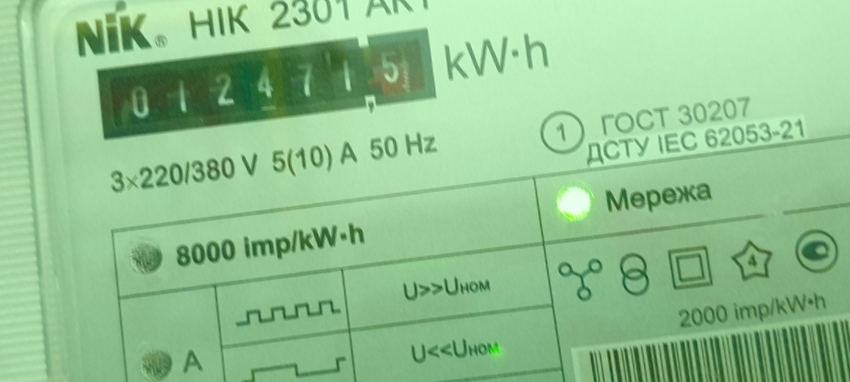0: (127, 82, 154, 120)
1: (176, 77, 191, 114), (340, 56, 355, 93)
2: (214, 70, 238, 108)
4: (255, 62, 277, 101)
5: (379, 46, 404, 86)
7: (294, 59, 319, 100)
screen: (86, 18, 451, 150)
